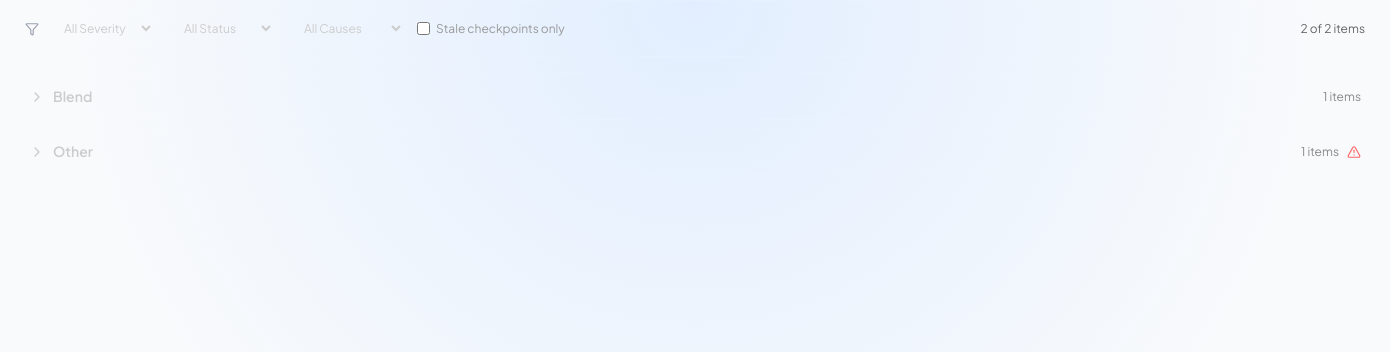
Test case: PortfolioReconcile › filters › filters by severity
Select "Critical" in the dropdown named "Filter by severity" at (101, 28), box [47,13,155,44]
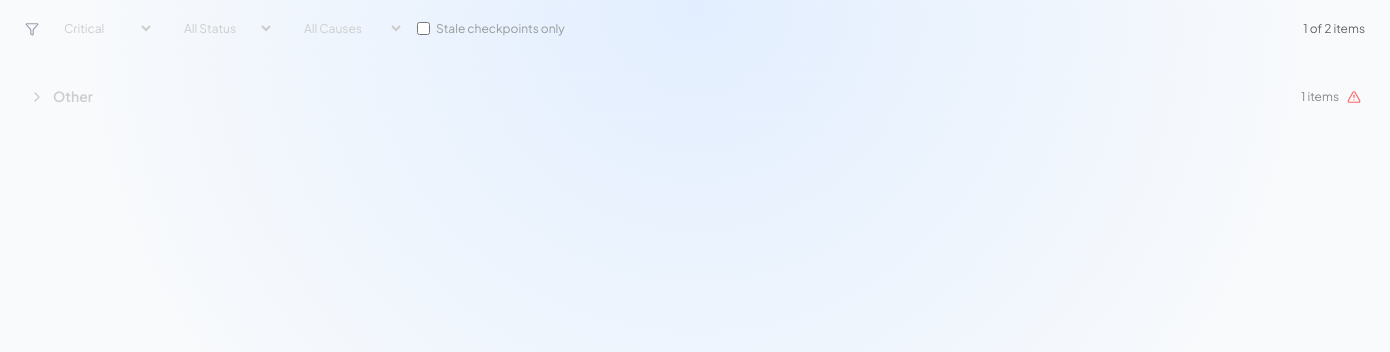
Click the button "Other 1 items" at (73, 96), box [12,73,1378,120]
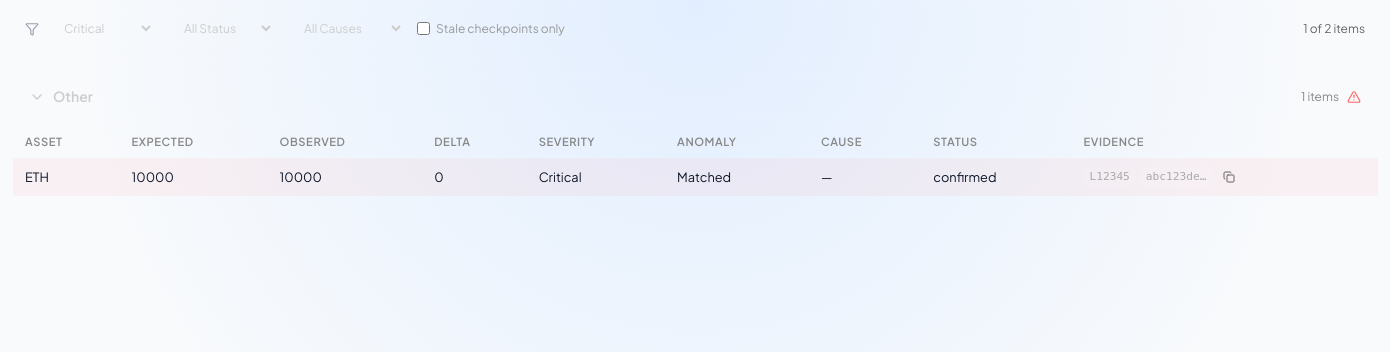
Expected: the text "ETH" is shown, [12,158,119,196]
